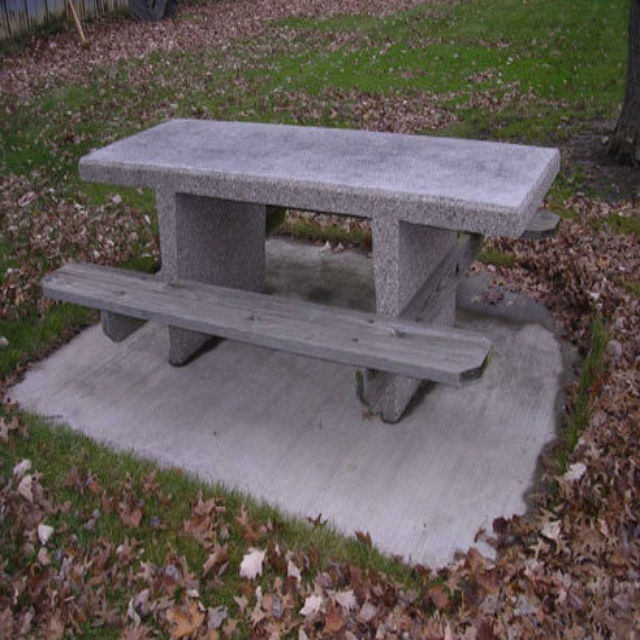obstacle: (33, 104, 571, 418)
